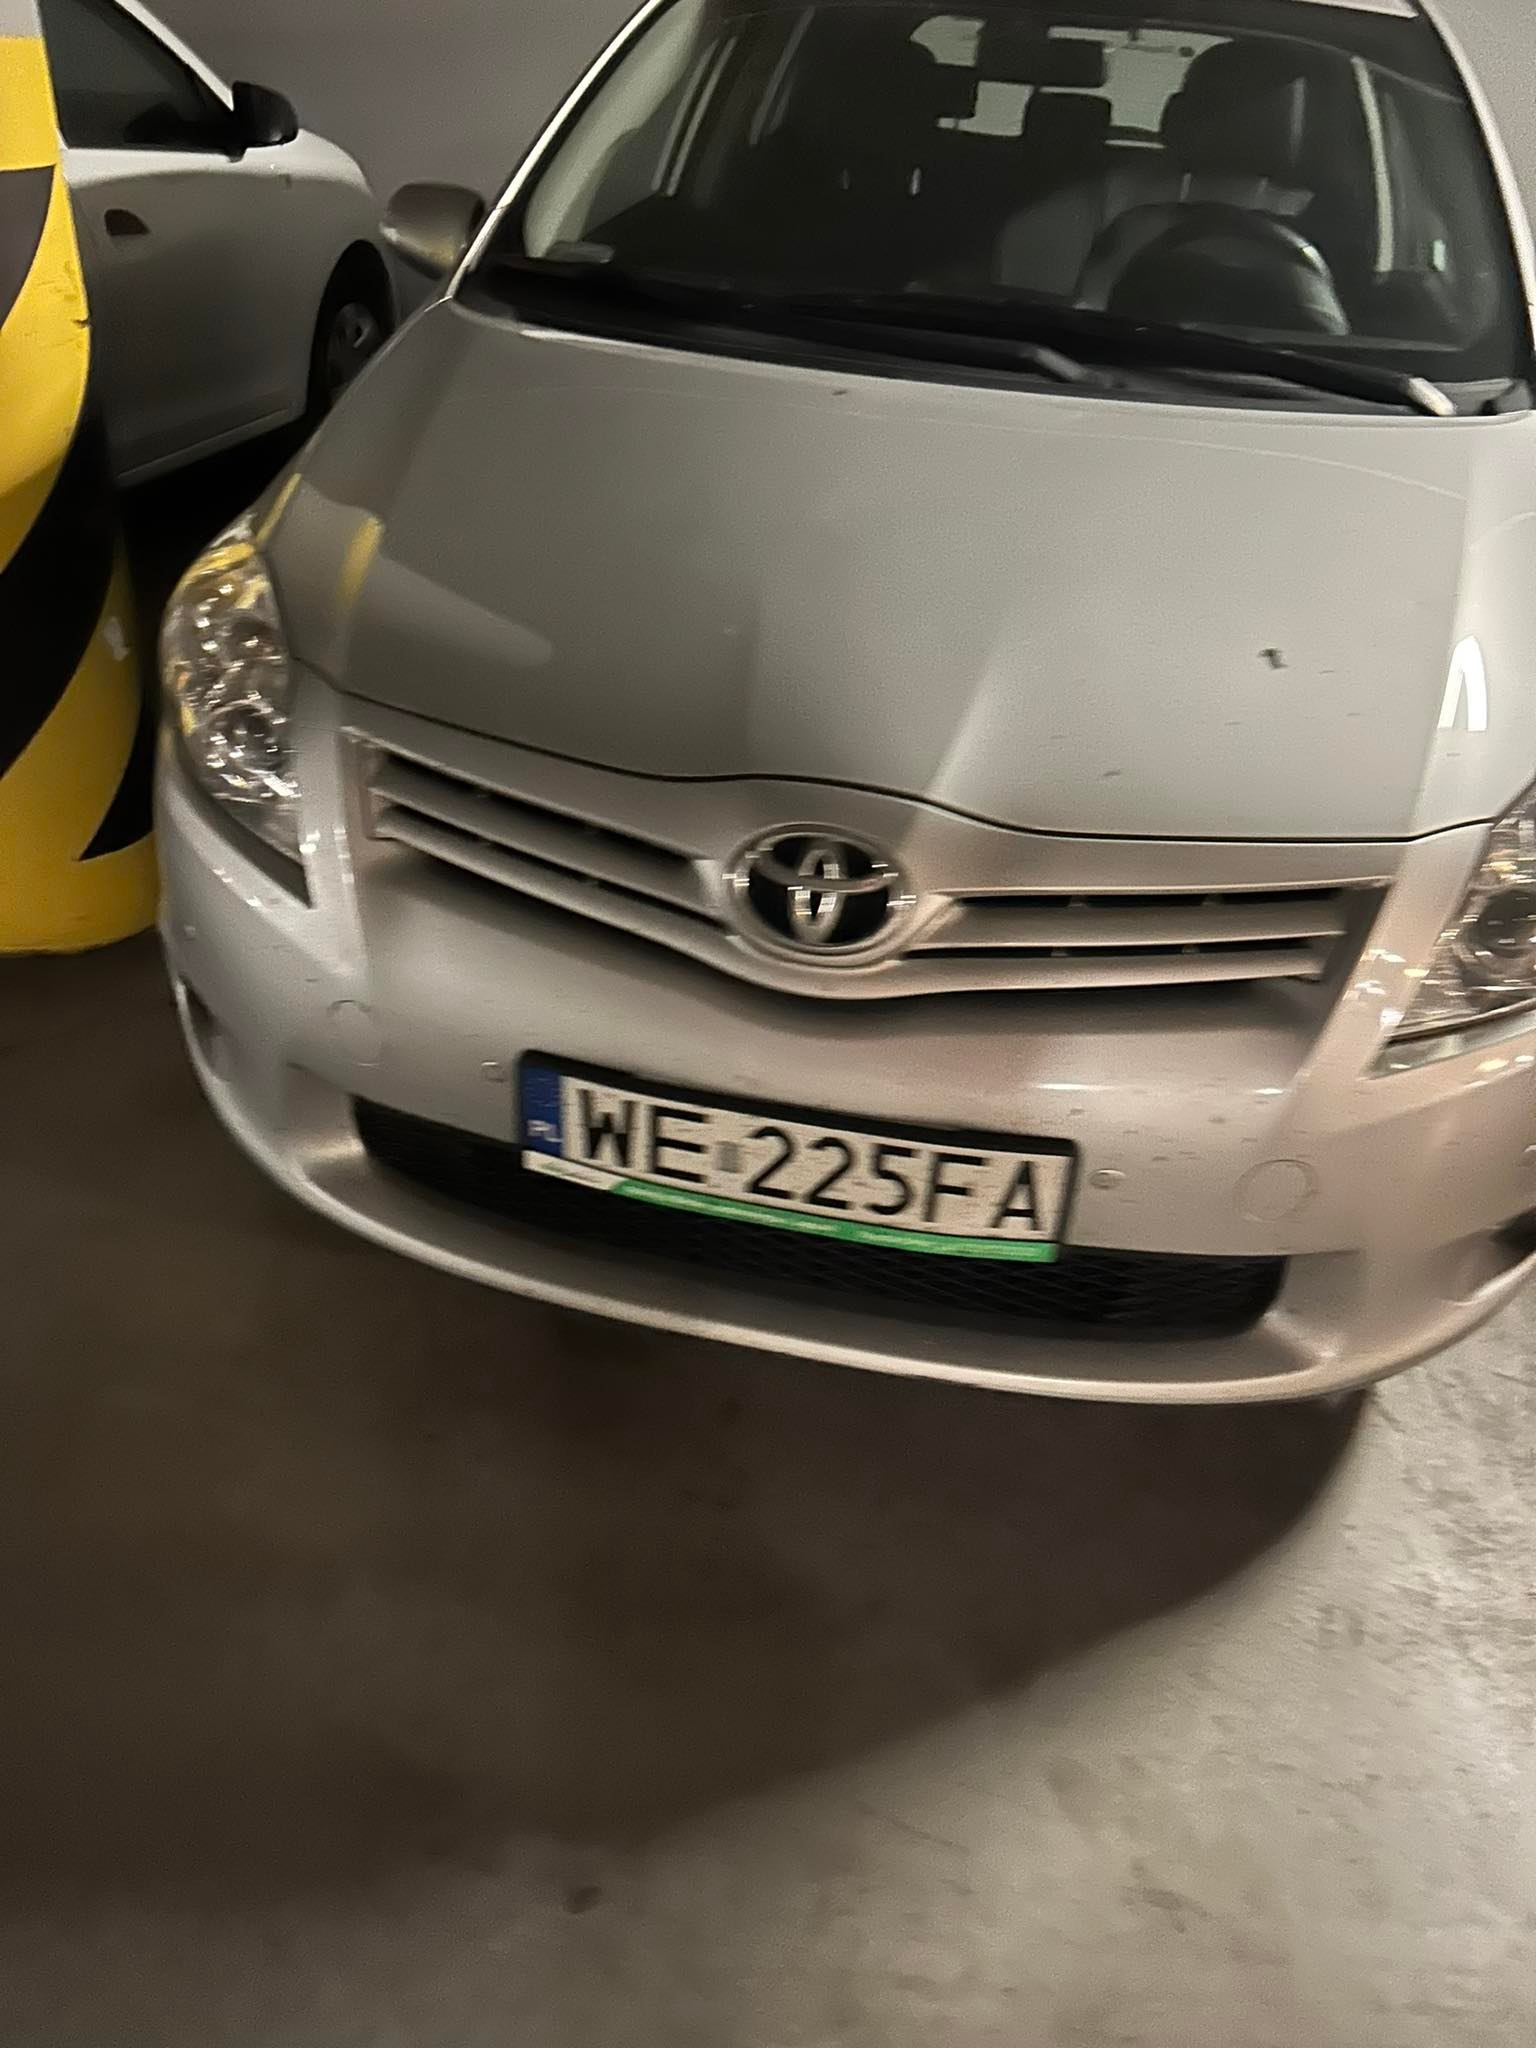number_plate: (528, 1063, 1079, 1279)
